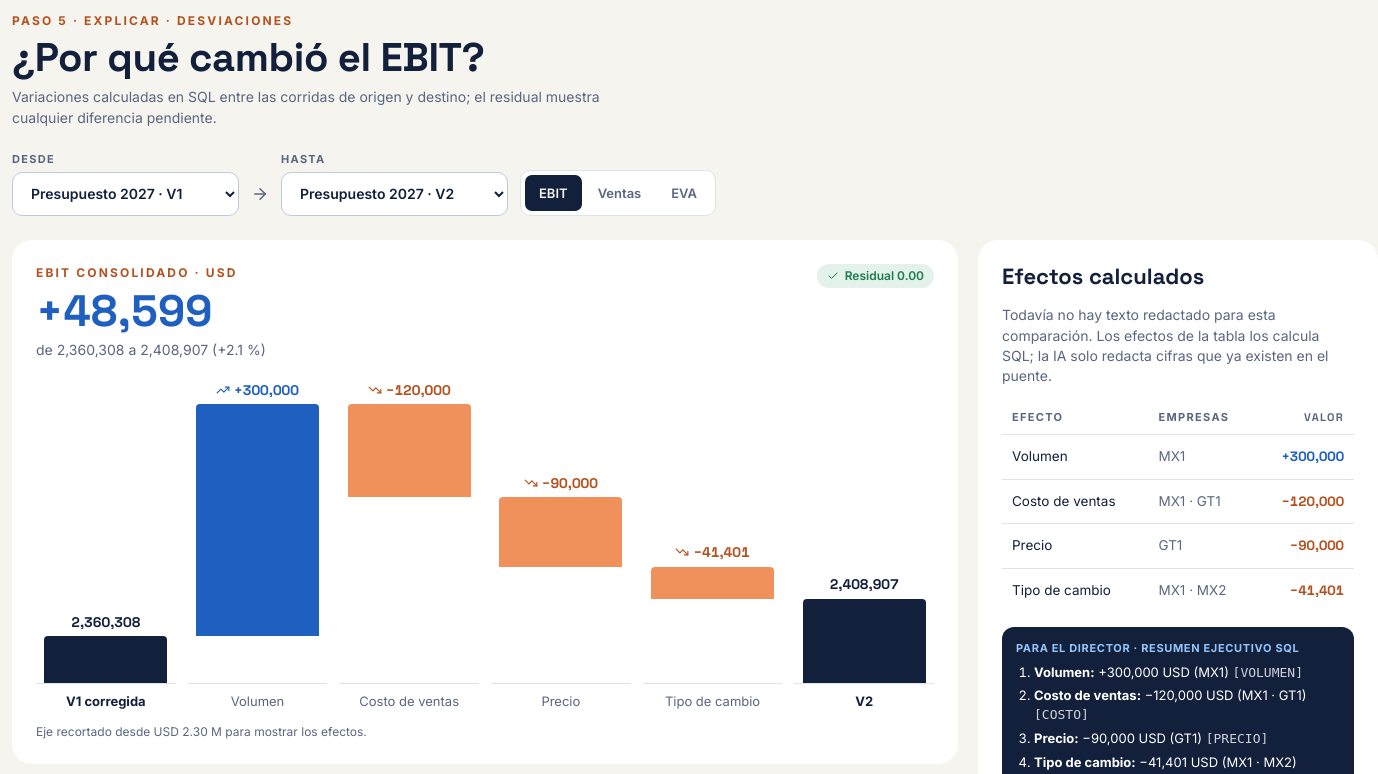
Test case: VariancePage › cambia la métrica y vuelve a consultar
The width and height of the screenshot is (1378, 774).
Expected: the text "+48,599" is shown, [36,283,213,339]
What coordinates should you click on to do the following:
click the button "EVA"
I would click on:
 (684, 193)
Its box is [657,175,711,211].
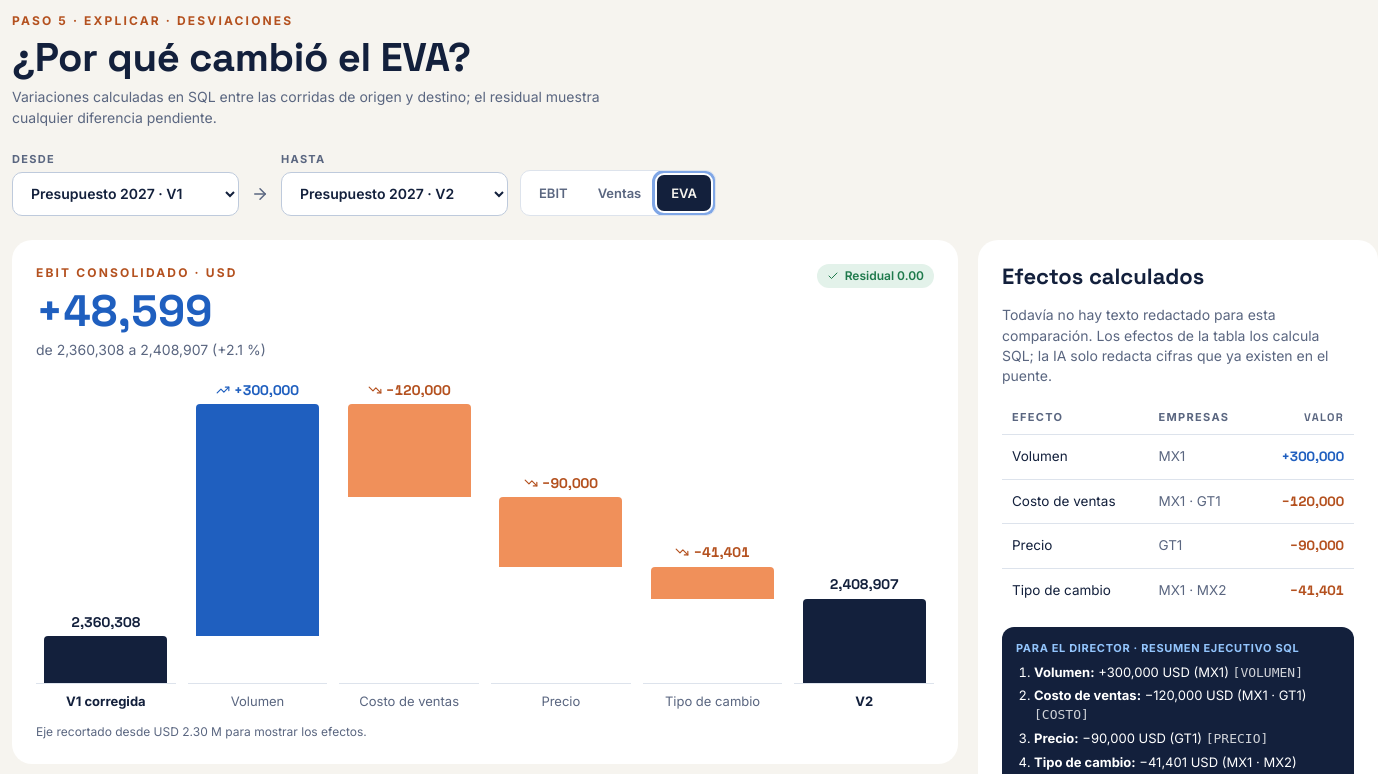
Now the heading "¿Por qué cambió el EVA?" is shown, box [12,32,471,83]
